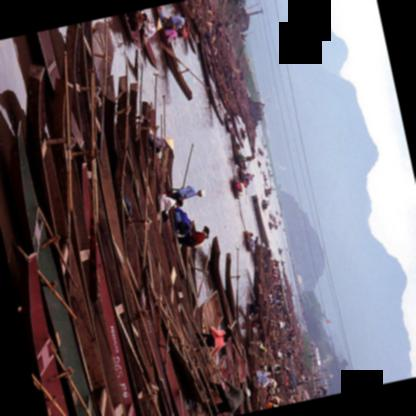backpack: (176, 221, 189, 235)
